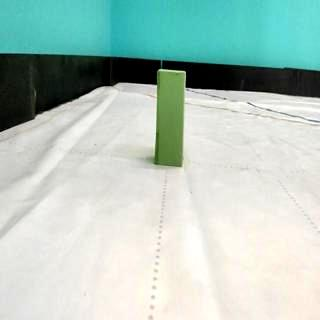greenbox: (154, 68, 186, 168)
